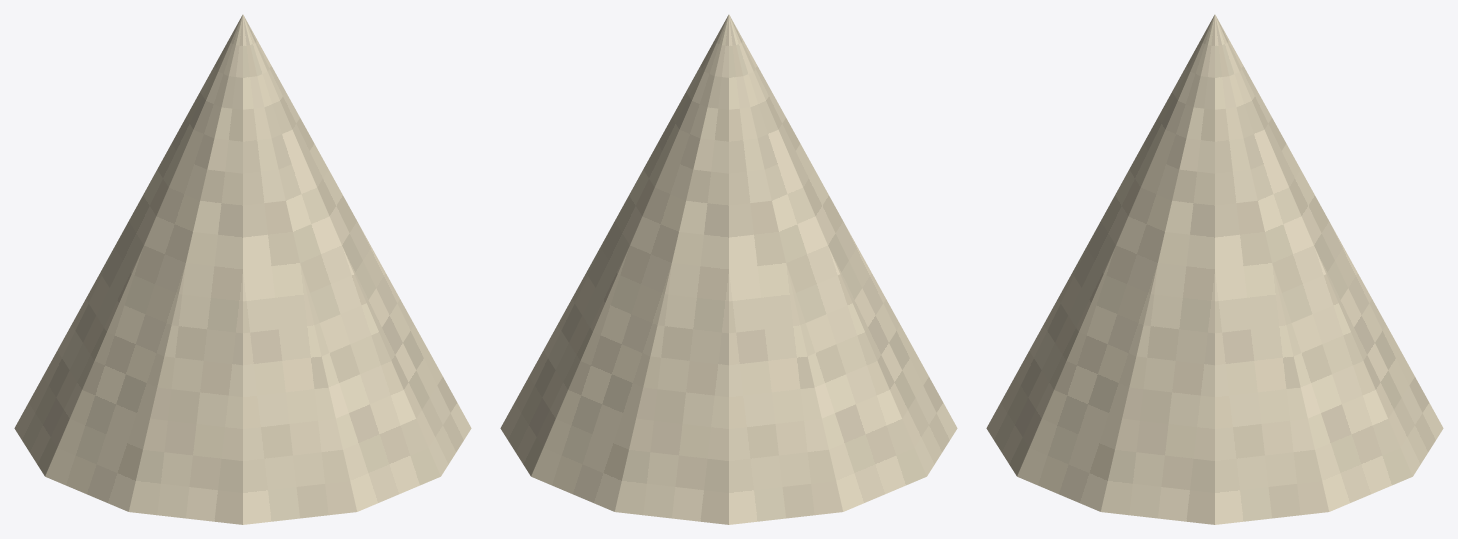
The model's file is cone_felt.glb.
3 views of the same model, side by side, from view 1: azimuth 30°, elevation 25°; view 2: azimuth 150°, elevation 25°; view 3: azimuth 270°, elevation 25° (orthographic).
Parts seen in each view (by area): view 1: cone_felt; view 2: cone_felt; view 3: cone_felt.
Boxes of the visible parts, x1,y1,x2,y2 form: cone_felt: (14,14,471,524); cone_felt: (500,14,957,524); cone_felt: (986,14,1443,524).
Bounding box in the file's own units: 1 × 1 × 1.
Materials: 1 (1 with a texture image).
